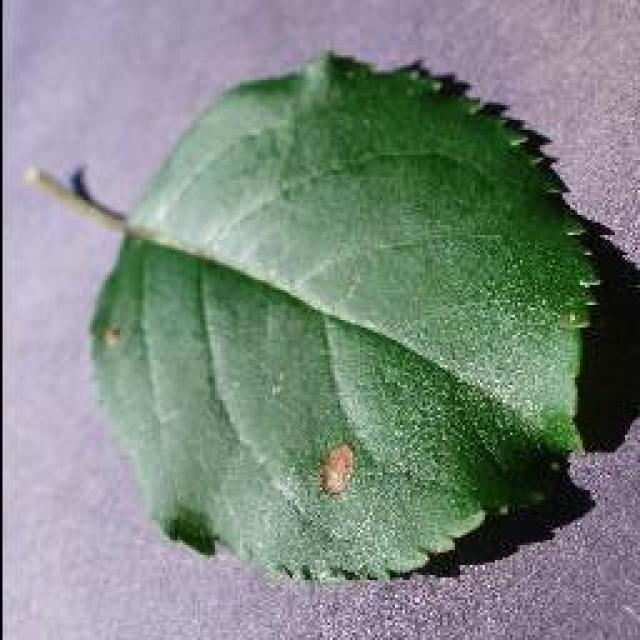Black_rot: (30, 48, 610, 588)
